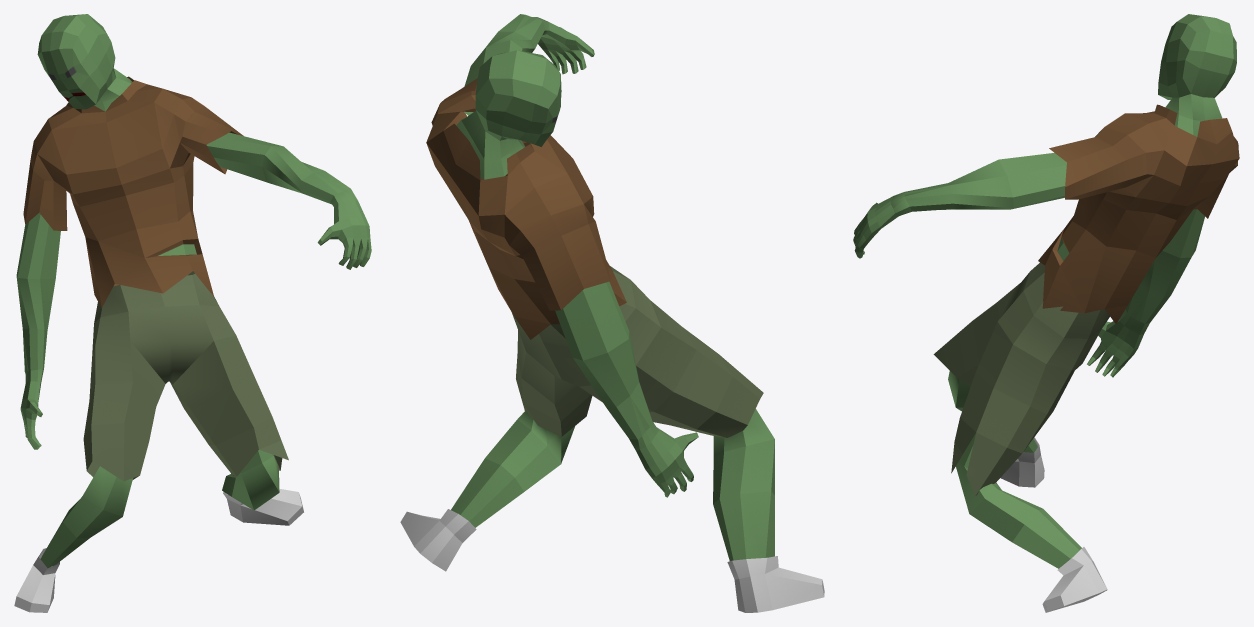
The model's file is ZombieDead(38).obj.
3 views of the same model, side by side, from view 1: azimuth 30°, elevation 25°; view 2: azimuth 150°, elevation 25°; view 3: azimuth 270°, elevation 25° (orthographic). The views are drawn at different scales.
Parts seen in each view (by area): view 1: Object001; view 2: Object001; view 3: Object001.
Part boxes in pixels (left/top/right/bottom): Object001: left=14, top=14, right=371, bottom=612; Object001: left=400, top=14, right=824, bottom=612; Object001: left=853, top=14, right=1239, bottom=612.
Size of the model in its own units: 33.33 by 49.51 by 32.88.
